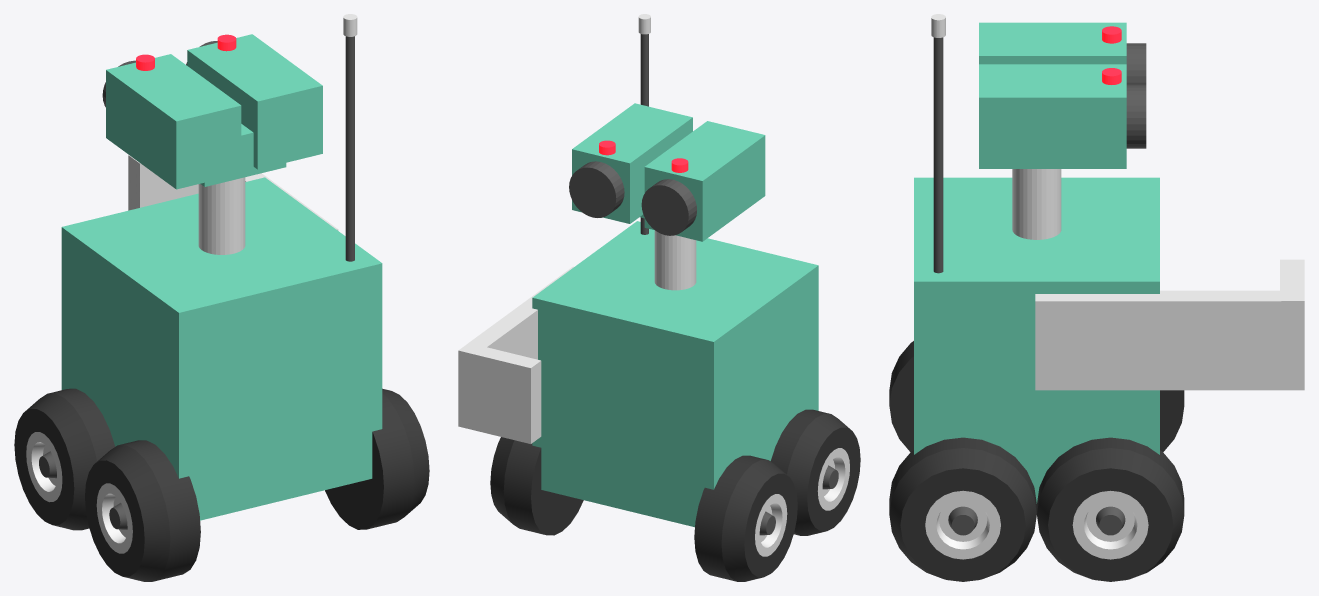
Rendered from r1000-hold.gltf.
3 views of the same model, side by side, from view 1: azimuth 30°, elevation 25°; view 2: azimuth 150°, elevation 25°; view 3: azimuth 270°, elevation 25° (orthographic). The views are drawn at different scales.
Visible parts, largest first — view 1: Cube, Cube.004, wheel_frontLeft.002, Cube.001, wheel_frontLeft.001, wheel_frontLeft.004, Cylinder.002, Cylinder.006, Cube.003, Cube.005; view 2: Cube, wheel_frontLeft.001, Cube.004, wheel_frontLeft.002, Cube.003, Cube.001, wheel_frontLeft.003, Cylinder.001, Cylinder.004, Cube.002, Cylinder.002, Cylinder.006; view 3: Cube, Cube.002, wheel_frontLeft.004, wheel_frontLeft.003, Cube.001, Cube.004, Cylinder.002, Cube.003, Cylinder.006, wheel_frontLeft.002, Cylinder.001, wheel_frontLeft.001 (+1 smaller).
Boxes of the visible parts, box(x1,y1,x2,y2) form: Cube: box(61, 177, 382, 520); Cube.004: box(106, 54, 241, 189); wheel_frontLeft.002: box(85, 440, 200, 581); Cube.001: box(187, 34, 322, 169); wheel_frontLeft.001: box(14, 388, 115, 530); wheel_frontLeft.004: box(325, 388, 429, 529); Cylinder.002: box(198, 177, 245, 254); Cylinder.006: box(345, 36, 354, 261); Cube.003: box(128, 155, 198, 210); Cube.005: box(200, 124, 286, 186); Cube: box(532, 221, 818, 527); wheel_frontLeft.001: box(694, 455, 797, 581); Cube.004: box(644, 121, 765, 241); wheel_frontLeft.002: box(770, 409, 860, 535); Cube.003: box(458, 343, 541, 443); Cube.001: box(572, 103, 692, 223); wheel_frontLeft.003: box(490, 437, 583, 535); Cylinder.001: box(569, 161, 624, 217); Cylinder.004: box(641, 179, 696, 235); Cube.002: box(469, 266, 573, 359); Cylinder.002: box(654, 230, 696, 290); Cylinder.006: box(640, 34, 648, 234); Cube: box(914, 177, 1159, 503); Cube.002: box(1035, 290, 1281, 390); wheel_frontLeft.004: box(889, 437, 1036, 581); wheel_frontLeft.003: box(1037, 437, 1184, 581); Cube.001: box(979, 64, 1126, 168); Cube.004: box(979, 22, 1126, 64); Cylinder.002: box(1012, 169, 1061, 239); Cube.003: box(1280, 259, 1304, 390); Cylinder.006: box(933, 37, 943, 273); wheel_frontLeft.002: box(889, 341, 913, 451); Cylinder.001: box(1126, 84, 1146, 148); wheel_frontLeft.001: box(1160, 390, 1184, 451).
Bounding box in the file's own units: 0.7 × 1.22 × 0.8444.
